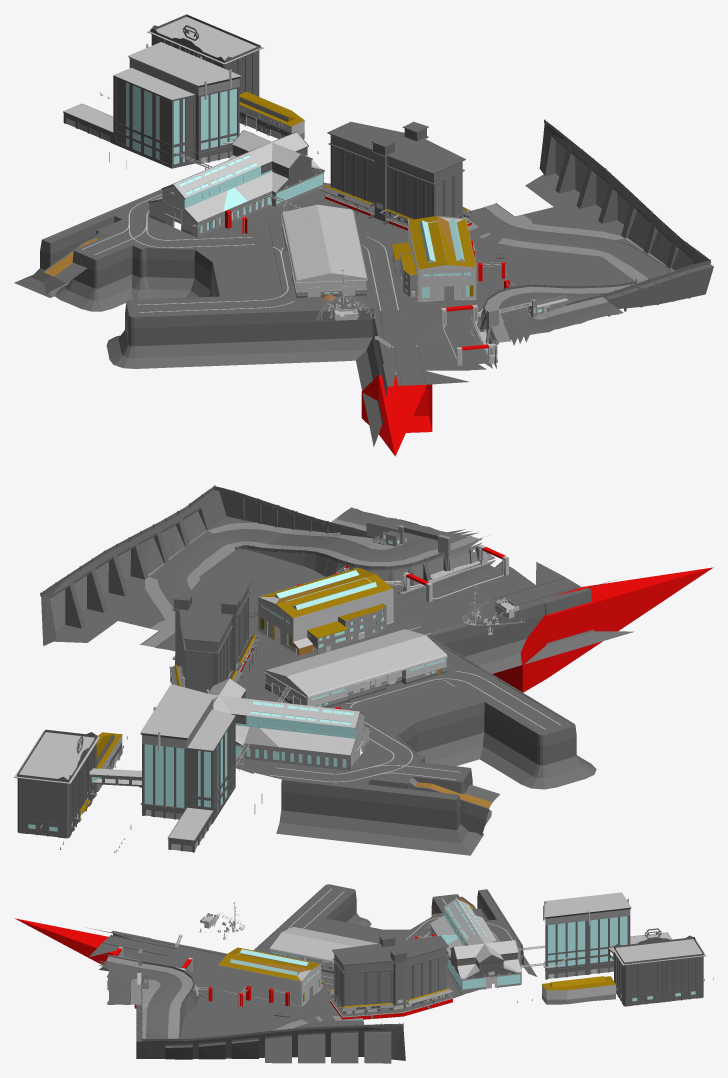
File: brook_s_9.FBX
3 renders of one model, top to bottom at view 1: azimuth 30°, elevation 25°; view 2: azimuth 150°, elevation 25°; view 3: azimuth 270°, elevation 25°, orthographic. The views are drawn at different scales.
Visible parts, largest first — view 1: unnamed, null; view 2: unnamed, null; view 3: unnamed, null.
Part boxes in pixels (x1,y1,x2,y2): unnamed: (14, 14, 713, 456); null: (165, 60, 405, 228); unnamed: (14, 485, 713, 855); null: (98, 609, 290, 765); unnamed: (15, 884, 713, 1063); null: (393, 901, 585, 1015).
Bounding box in the file's own units: 239 × 74.78 × 380.
